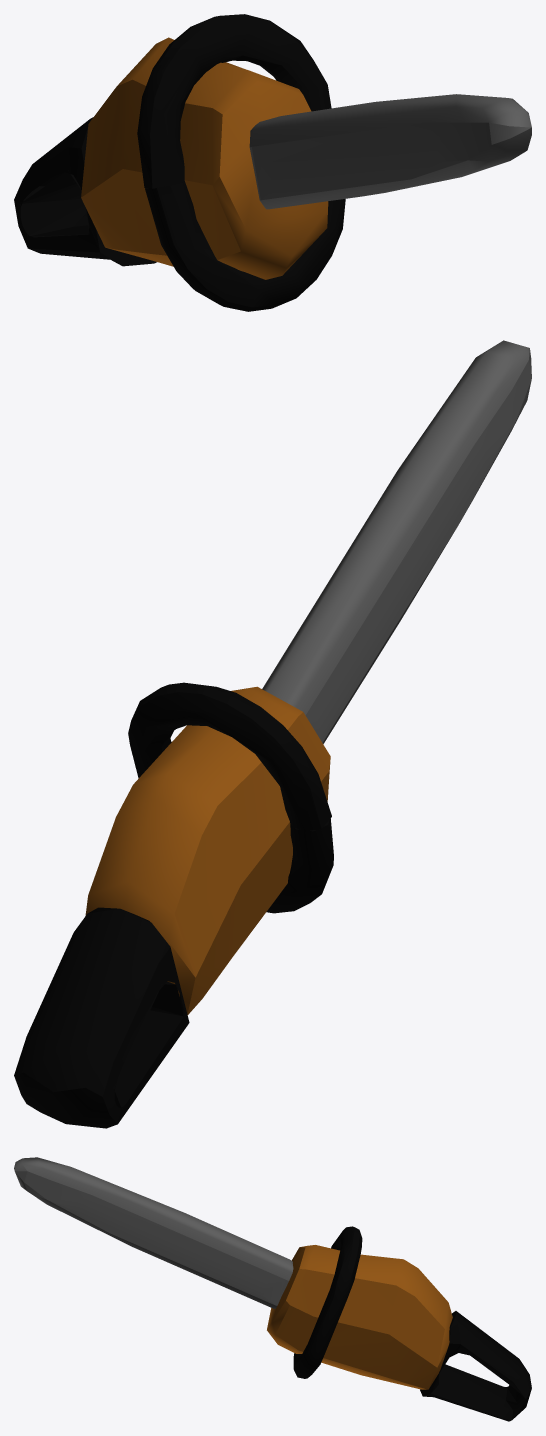
Rendered from Chainsaw.fbx.
The picture shows the model from 3 angles, top to bottom: view 1: azimuth 30°, elevation 25°; view 2: azimuth 150°, elevation 25°; view 3: azimuth 270°, elevation 25°; orthographic projection. The views are drawn at different scales.
Parts seen in each view (by area): view 1: Cube.001, Cube.002, Cylinder, Cube; view 2: Cube.001, Cube.002, Cube, Cylinder; view 3: Cube.001, Cube.002, Cube, Cylinder.
Boxes of the visible parts, <box> form: Cube.001: <box>81,37,328,279</box>; Cube.002: <box>249,94,531,209</box>; Cylinder: <box>137,14,345,311</box>; Cube: <box>14,117,156,266</box>; Cube.001: <box>85,686,330,1014</box>; Cube.002: <box>262,340,531,743</box>; Cube: <box>14,907,189,1128</box>; Cylinder: <box>128,682,333,913</box>; Cube.001: <box>267,1245,452,1389</box>; Cube.002: <box>14,1157,293,1308</box>; Cube: <box>420,1311,531,1421</box>; Cylinder: <box>293,1226,362,1378</box>.
Bounding box in the file's own units: 127 × 290 × 540.
